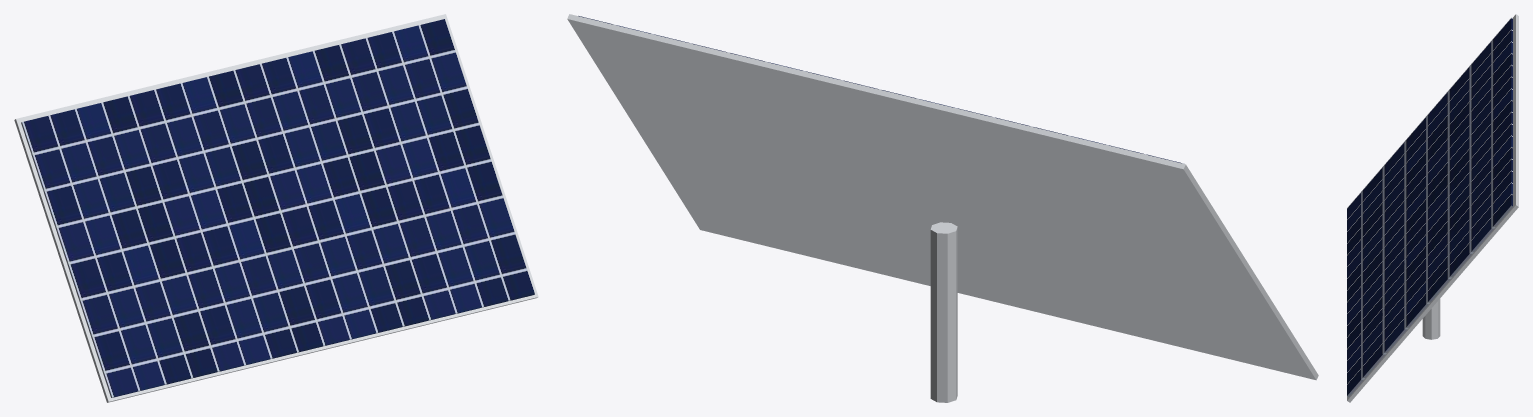
File: mars_solar_panel.glb
3 renders of one model, left to right at view 1: azimuth 30°, elevation 25°; view 2: azimuth 150°, elevation 25°; view 3: azimuth 270°, elevation 25°, orthographic. The views are drawn at different scales.
Visible parts, largest first — view 1: MarsSolarPanel; view 2: MarsSolarPanel; view 3: MarsSolarPanel.
Part boxes in pixels (x1=…): MarsSolarPanel: x1=14, y1=14, x2=538, y2=402; MarsSolarPanel: x1=567, y1=14, x2=1318, y2=402; MarsSolarPanel: x1=1347, y1=14, x2=1518, y2=402.
Bounding box in the file's own units: 6.1 × 3.37 × 2.32.
2 materials, 1 textured.
